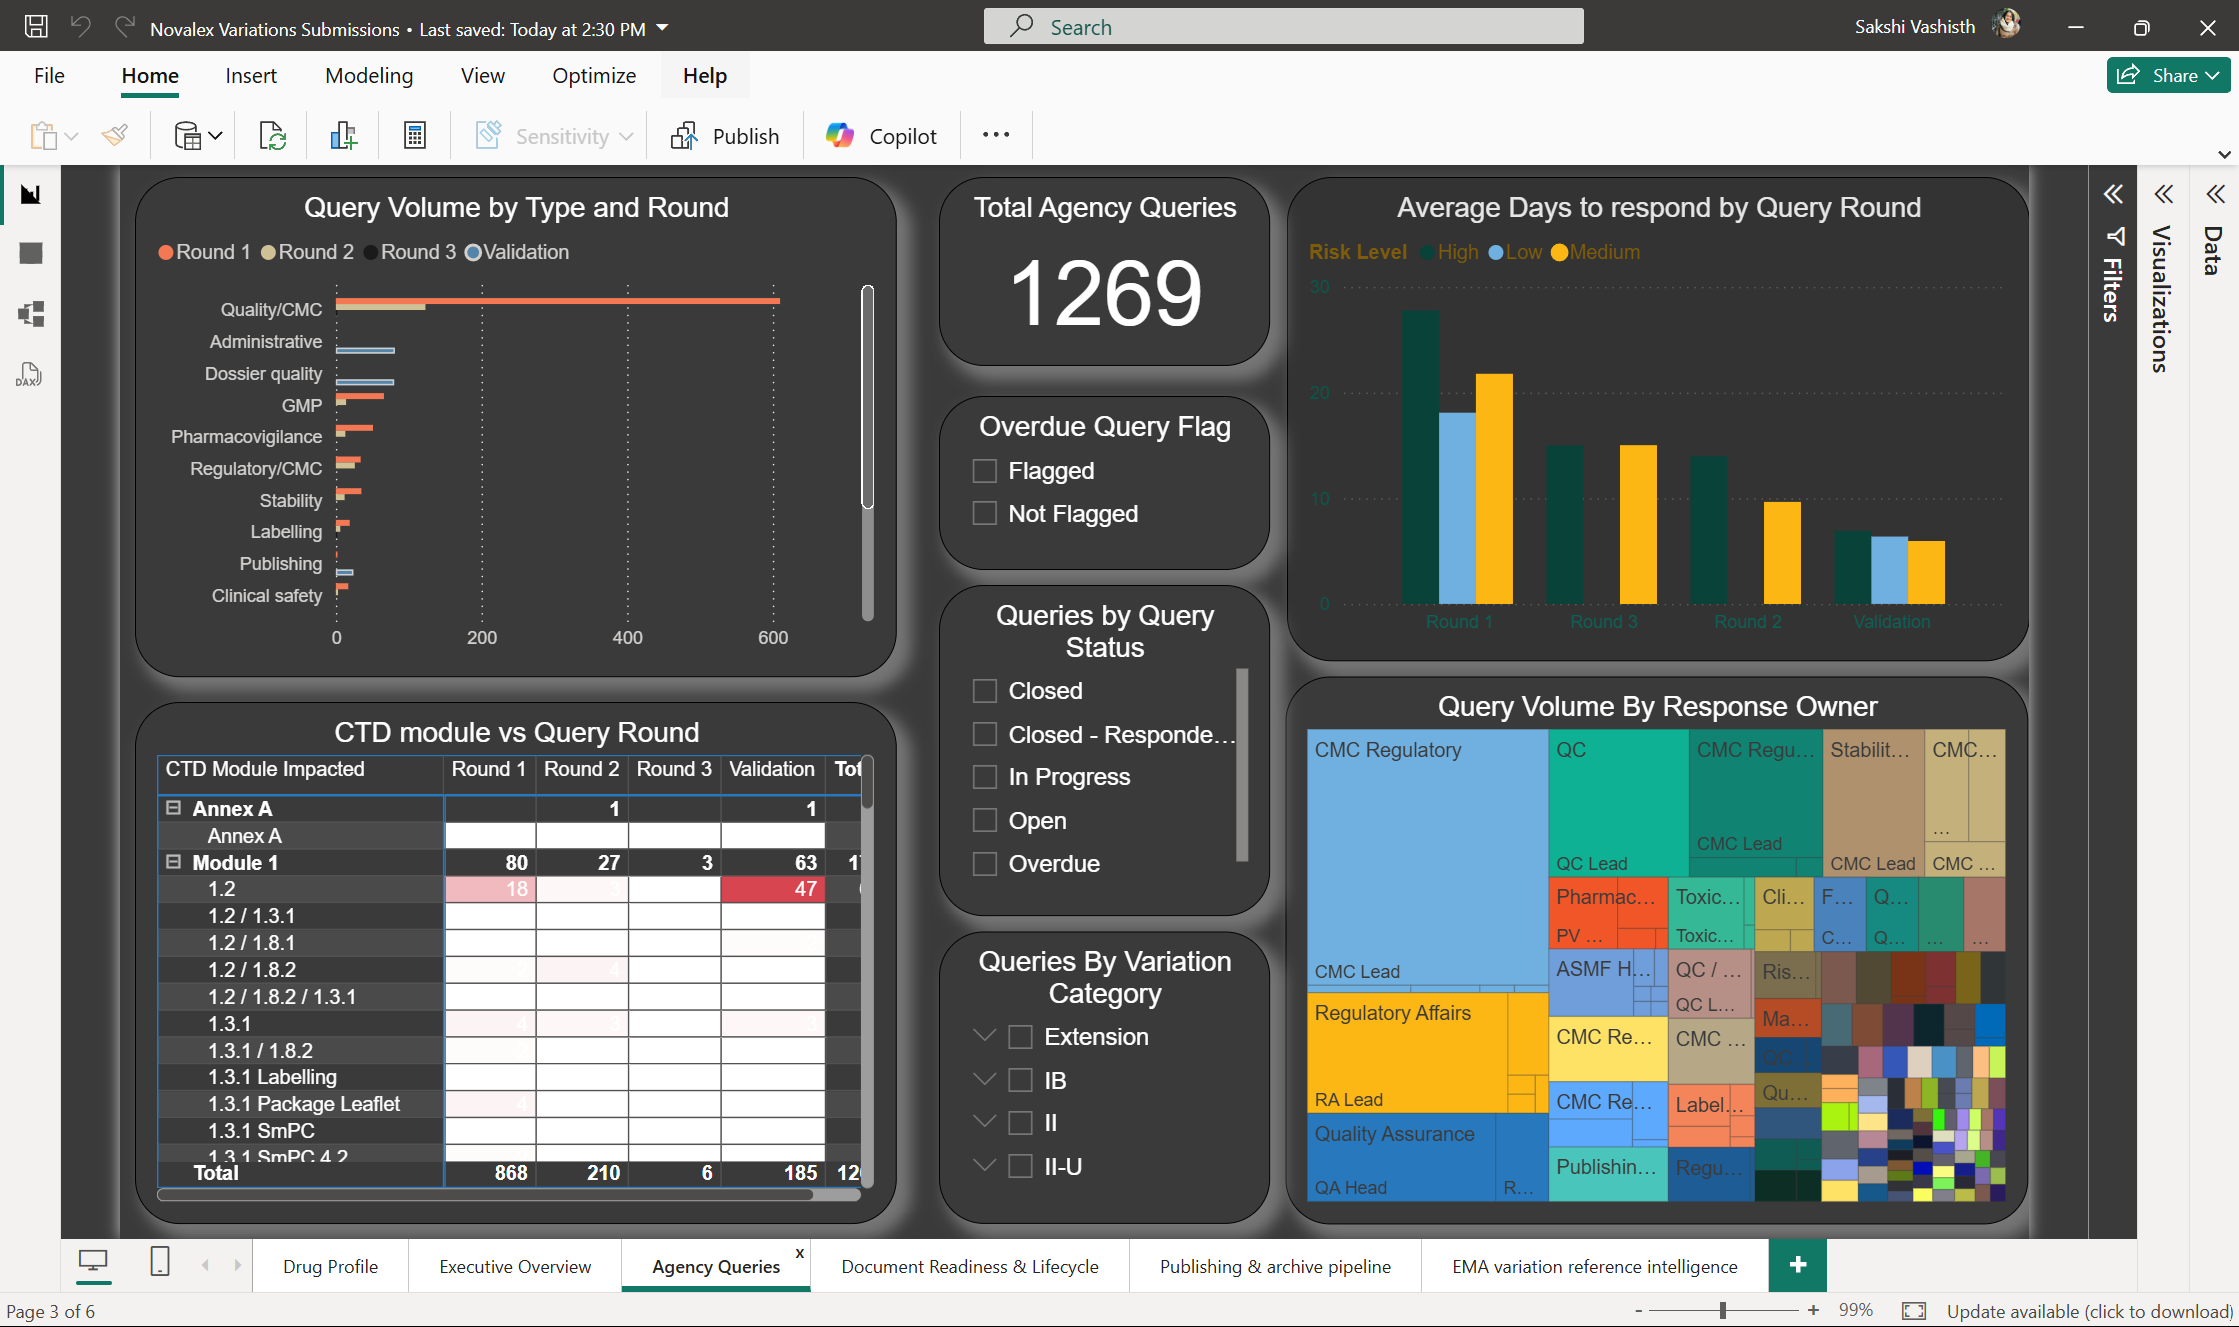

Layout of this report page (visuals, bound fields, positions):
{"tool":"powerbi","page":{"name":"Agency Queries","canvas":[1280,720],"ordinal":2},"visuals":[{"type":"clusteredBarChart","title":"Query Volume by Type and Round","fields":{"Category":["novalex_agency_query_tracker_si.Query_Type"],"Y":["CountNonNull(novalex_agency_query_tracker_si.Query_ID)"],"Series":["novalex_agency_query_tracker_si.Query_Round"]},"box":[9.8,8,510.7,335.2],"z":0},{"type":"pivotTable","title":"CTD module vs Query Round","fields":{"Rows":["novalex_agency_query_tracker_si.CTD_Module_Impacted","novalex_agency_query_tracker_si.CTD_Section_Impacted"],"Columns":["novalex_agency_query_tracker_si.Query_Round"],"Values":["Count(novalex_agency_query_tracker_si.Query_ID)"]},"box":[10,360,510.9,350],"z":1000},{"type":"clusteredColumnChart","title":"Average Days to respond by Query Round","fields":{"Category":["novalex_agency_query_tracker_si.Query_Round"],"Y":["Avg(novalex_agency_query_tracker_si.Days_To_Respond)"],"Series":["novalex_agency_query_tracker_si.Risk_Level"]},"box":[782.1,8,498.3,324.5],"z":2000},{"type":"treemap","title":"Query Volume By Response Owner","fields":{"Group":["novalex_agency_query_tracker_si.Response_Owner"],"Details":["novalex_agency_query_tracker_si.Reviewer"],"Values":["Count(novalex_agency_query_tracker_si.Query_ID)"]},"box":[781.8,342.7,498.2,367.3],"z":3000},{"type":"card","title":"Total Agency Queries","fields":{"Values":["Count(novalex_agency_query_tracker_si.Query_ID)"]},"box":[549.1,8.2,221.8,126.4],"z":4000},{"type":"slicer","title":"Overdue Query Flag","fields":{"Values":["novalex_agency_query_tracker_si.Overdue_Flag"]},"box":[549.1,154.5,221.8,116.4],"z":5000},{"type":"slicer","title":"Queries by Query Status","fields":{"Values":["novalex_agency_query_tracker_si.Query_Status"]},"box":[548.9,282,221.7,221.7],"z":6000},{"type":"slicer","title":"Queries By Variation Category","fields":{"Values":["novalex_agency_query_tracker_si.Variation_Category","novalex_agency_query_tracker_si.Submission_ID"]},"box":[548.9,514.3,221.7,196],"z":7000}]}

Visuals, with their boxes on the page's 1280x720 design canvas (x1, y1, x2, y2). These are canvas units, not pixel positions in the 2239x1327 screenshot, which may show the page scaled, cropped or inside an application window:
"Query Volume by Type and Round" clusteredBarChart: {"left": 10, "top": 8, "right": 520, "bottom": 343}
"CTD module vs Query Round" pivotTable: {"left": 10, "top": 360, "right": 521, "bottom": 710}
"Average Days to respond by Query Round" clusteredColumnChart: {"left": 782, "top": 8, "right": 1280, "bottom": 332}
"Query Volume By Response Owner" treemap: {"left": 782, "top": 343, "right": 1280, "bottom": 710}
"Total Agency Queries" card: {"left": 549, "top": 8, "right": 771, "bottom": 135}
"Overdue Query Flag" slicer: {"left": 549, "top": 154, "right": 771, "bottom": 271}
"Queries by Query Status" slicer: {"left": 549, "top": 282, "right": 771, "bottom": 504}
"Queries By Variation Category" slicer: {"left": 549, "top": 514, "right": 771, "bottom": 710}
